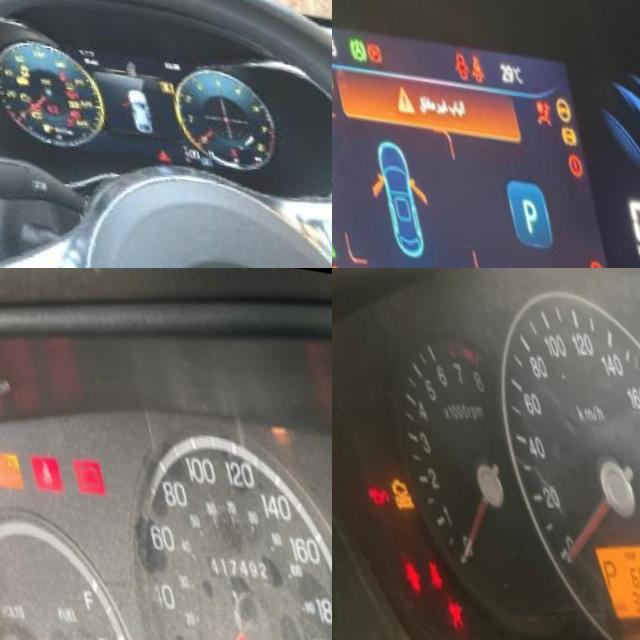Central Warning lamp: (378, 72, 407, 110)
Doors: (377, 553, 402, 595), (441, 38, 464, 72)
Engine cooling system: (206, 138, 216, 148)
Low fuel level: (20, 116, 30, 126)
